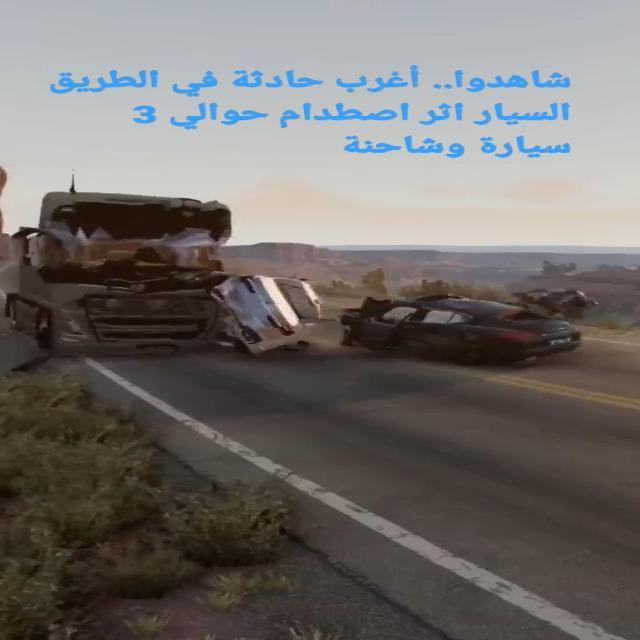accident: (219, 262, 350, 362)
